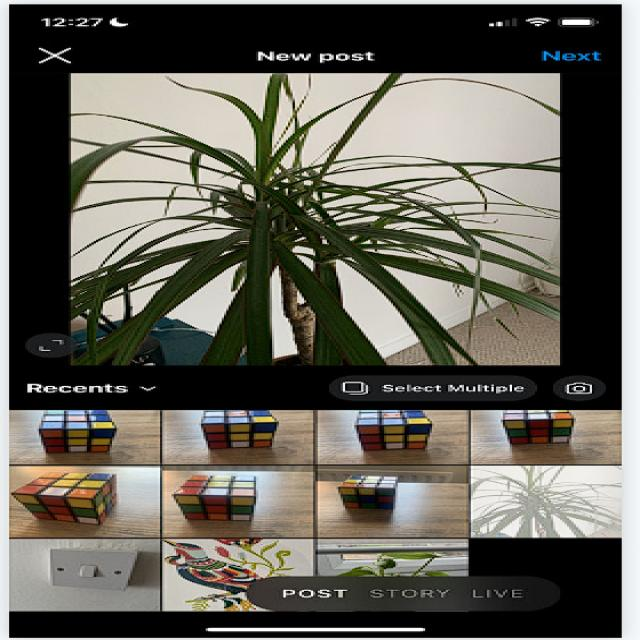column: (6, 409, 182, 611), (169, 406, 331, 614)
icon button: (26, 38, 93, 66)
image: (61, 68, 612, 370)
row: (1, 468, 632, 540), (15, 406, 628, 466), (3, 543, 470, 616)
